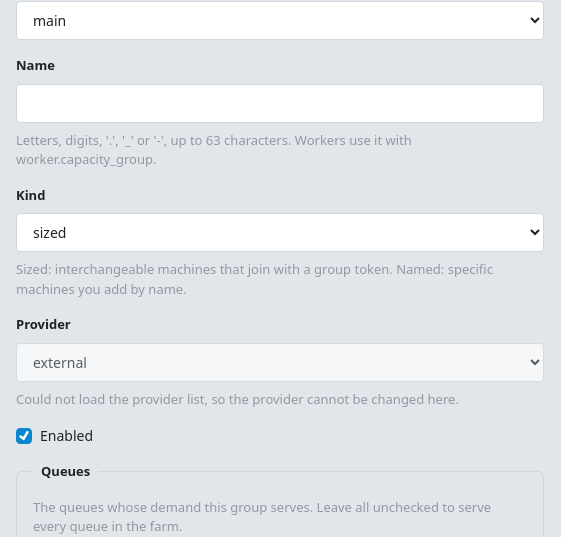
Test: CapacityGroupForm (create) › disables the provider choice if the list fails to load, and keeps external usable
The width and height of the screenshot is (561, 537).
expect the text "Could not load the provider list" is shown: met, box [16,390,459,408]
expect the dropdown labelled "Provider" is disabled: met, box [16,342,544,382]
Type "spot" into the field labelled "Name" at (280, 103), box [16,84,544,122]
(page scrolled)
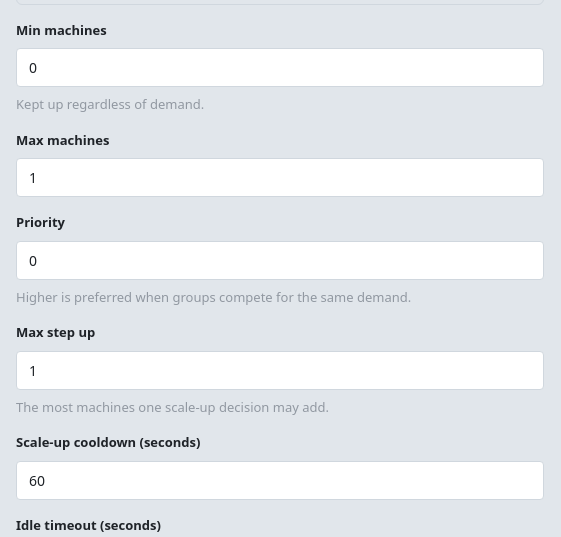
Replace the text in the number field labelled "Max machines" with "4" at (280, 178), box [16,158,544,197]
(page scrolled)
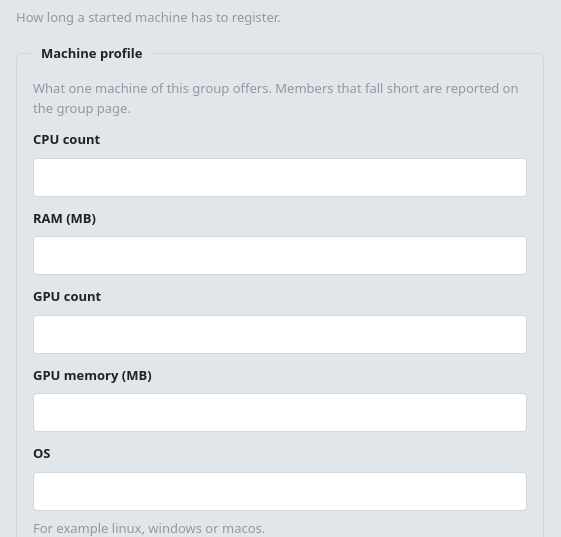
Type "8" into the number field labelled "CPU count" at (280, 177), box [33,158,527,196]
(page scrolled)
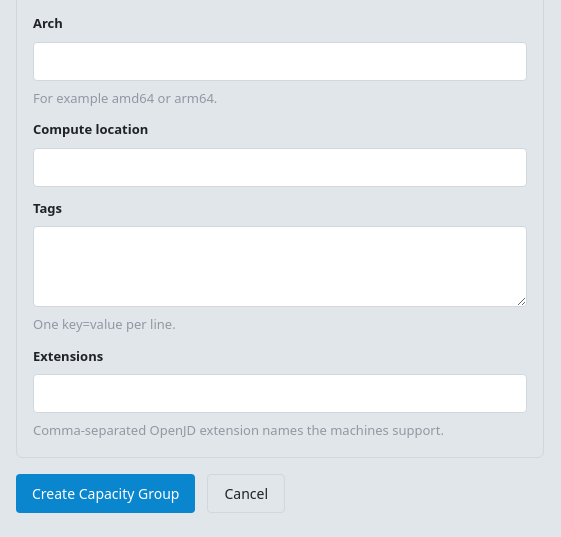
expect the button "Create Capacity Group" is enabled: met, box [16,474,196,512]
